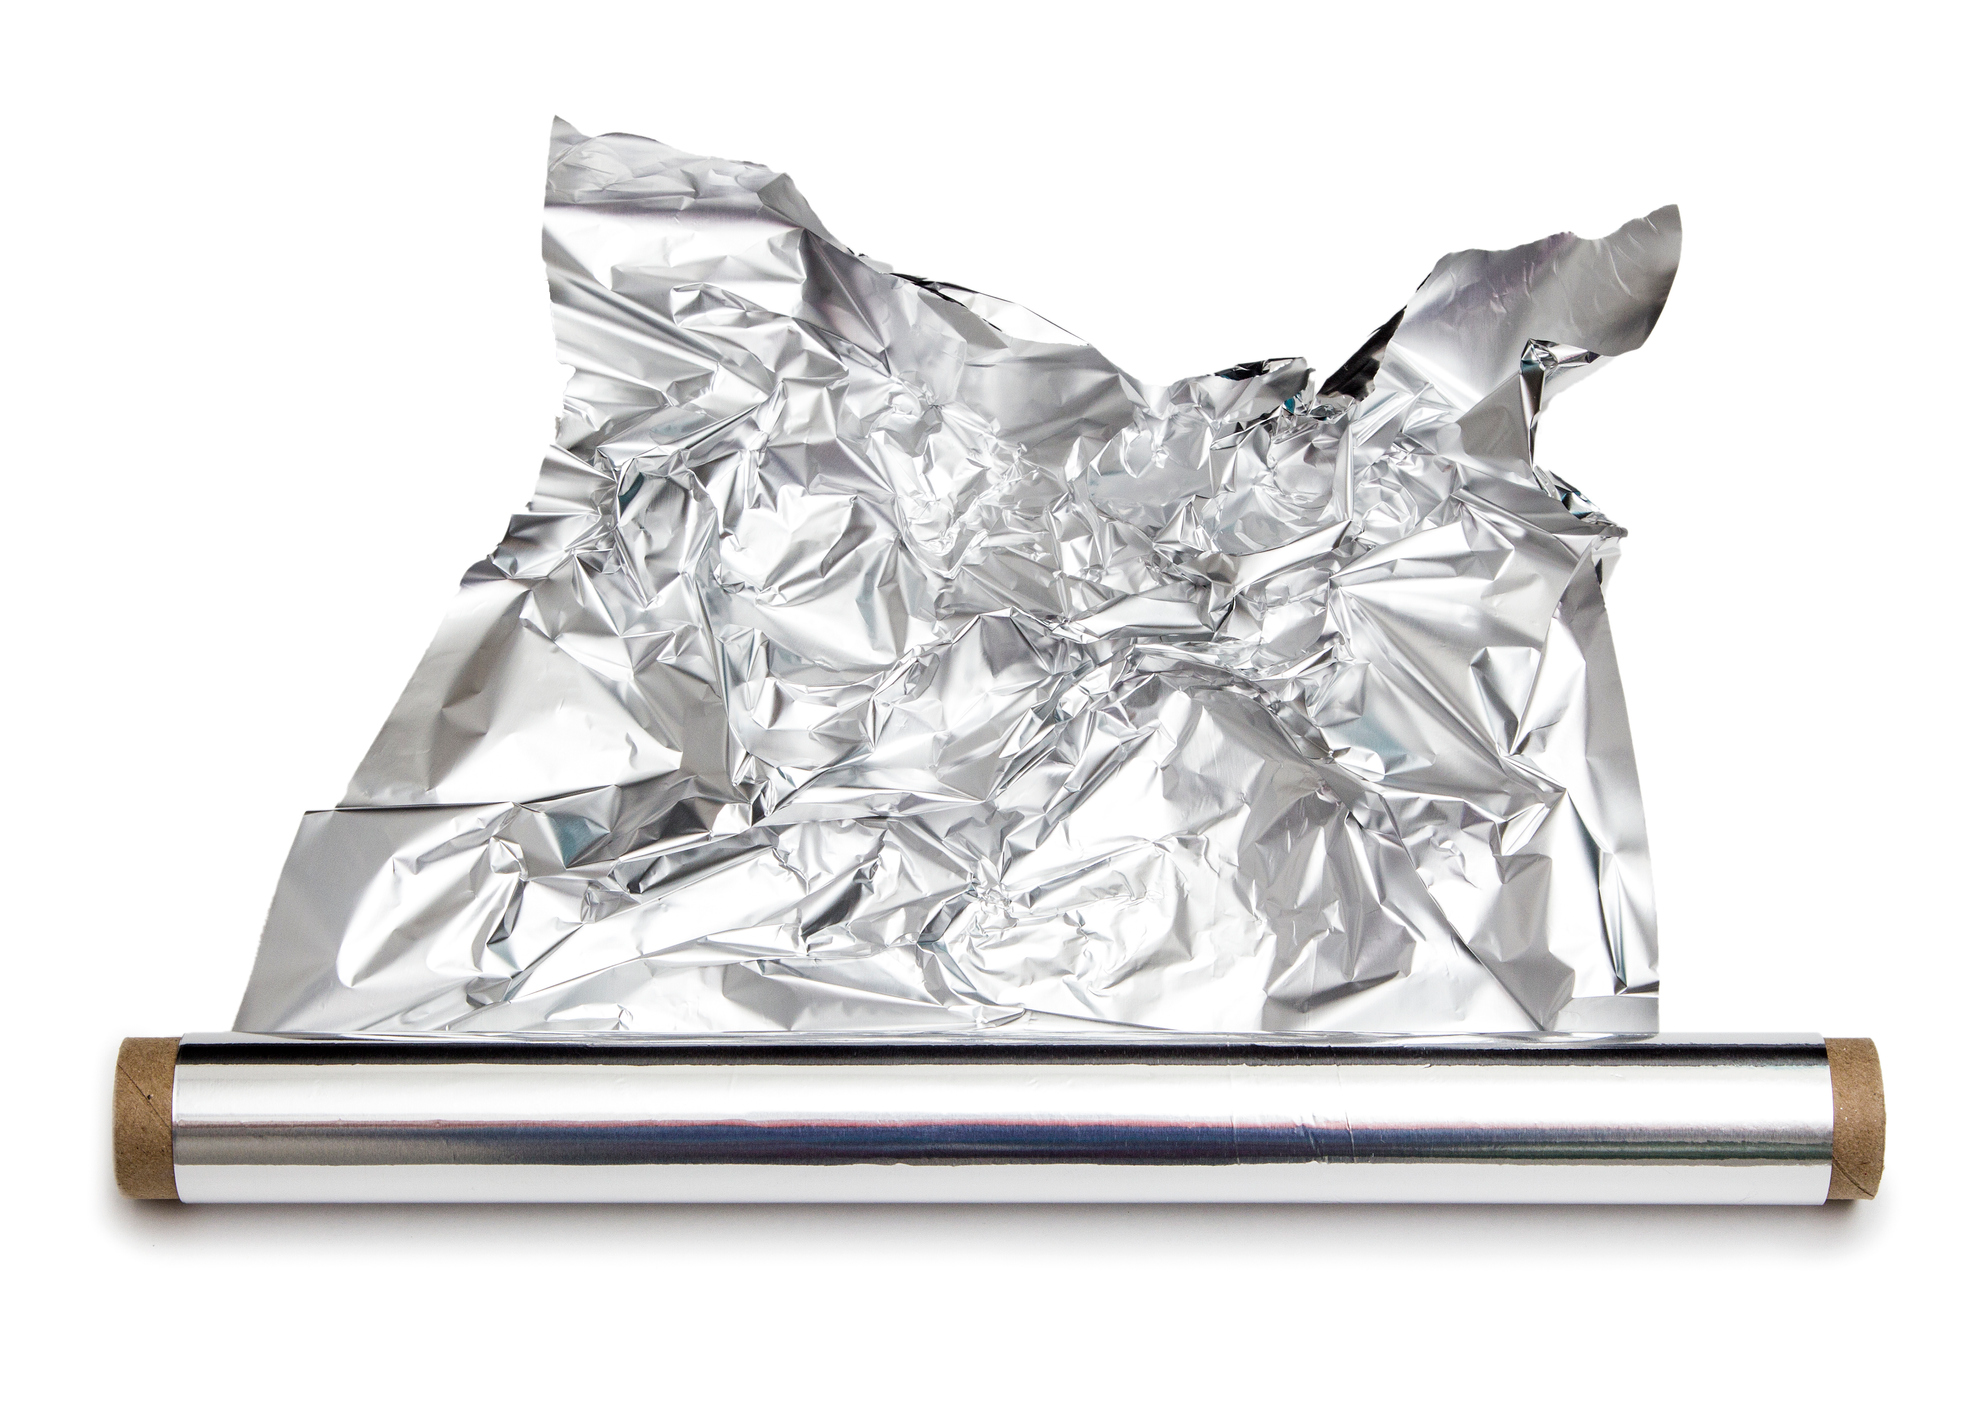metal: (106, 129, 1893, 1207)
